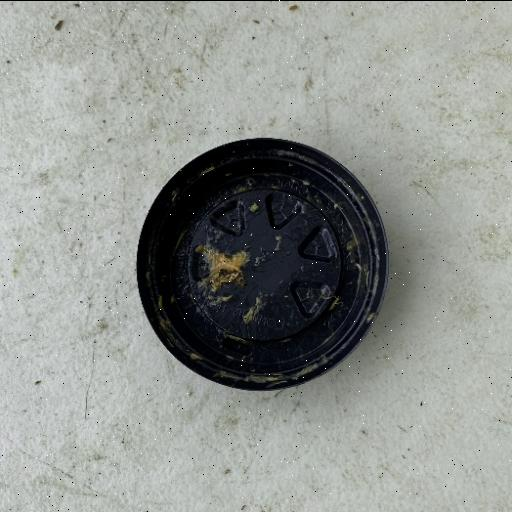Plastic: (133, 134, 391, 394)
